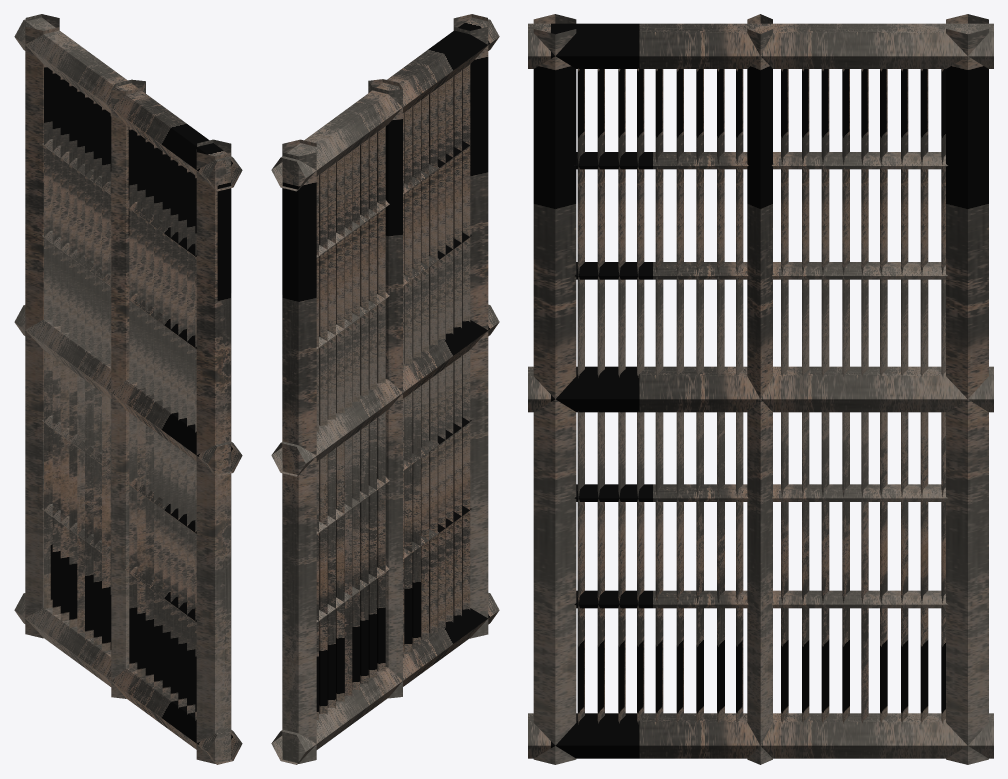
The model's file is GATE.fbx.
3 views of the same model, side by side, from view 1: azimuth 30°, elevation 25°; view 2: azimuth 150°, elevation 25°; view 3: azimuth 270°, elevation 25° (orthographic). The views are drawn at different scales.
Parts seen in each view (by area): view 1: polySurface2383; view 2: polySurface2383; view 3: polySurface2383.
Boxes of the visible parts, x1,y1,x2,y2 form: polySurface2383: (14, 14, 242, 764); polySurface2383: (271, 14, 499, 764); polySurface2383: (528, 14, 993, 764).
Size of the model in its own units: 1.07 by 17.93 by 10.36.
